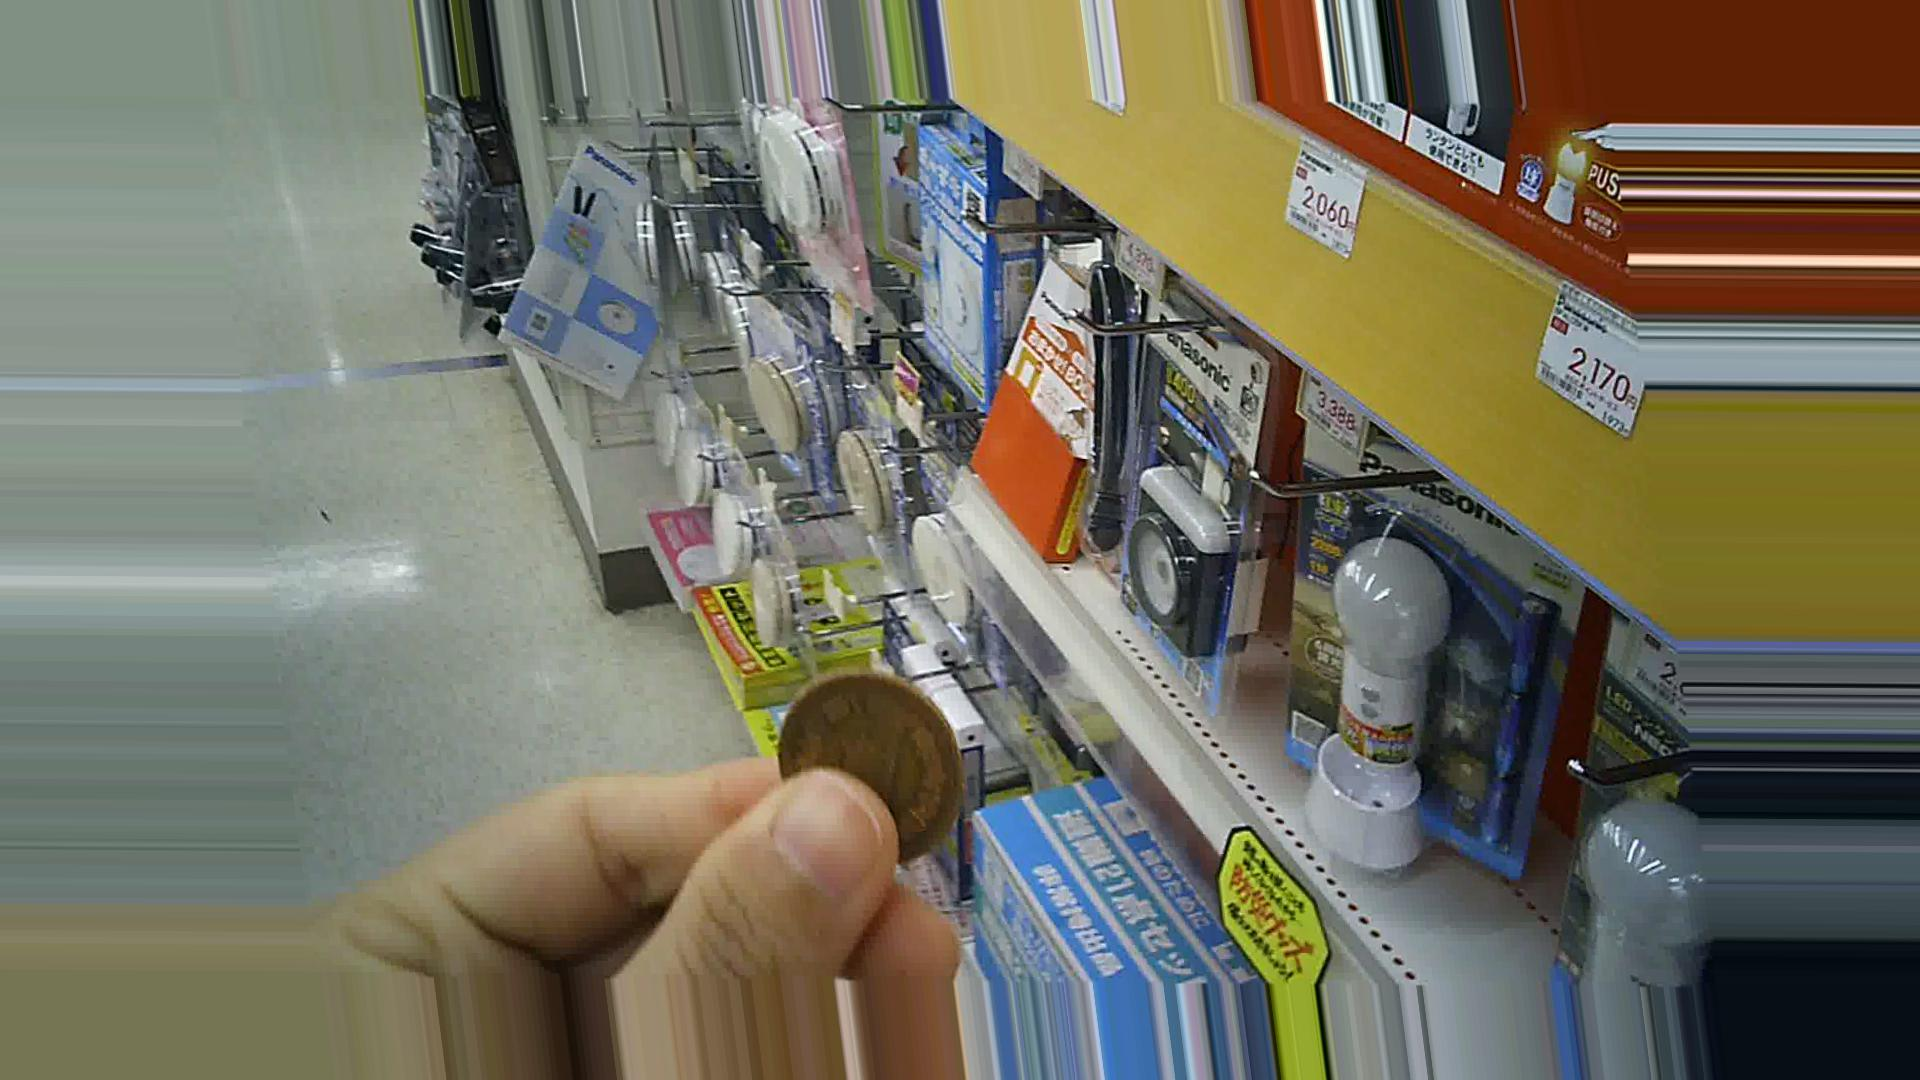10 Yen: (771, 670, 960, 853)
